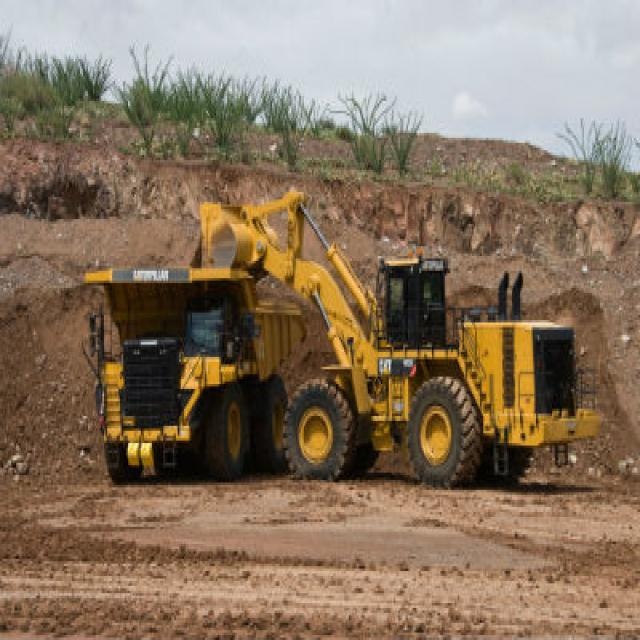buldozerpayloadergrader: (195, 177, 603, 495)
dump_truck: (64, 236, 323, 495)
